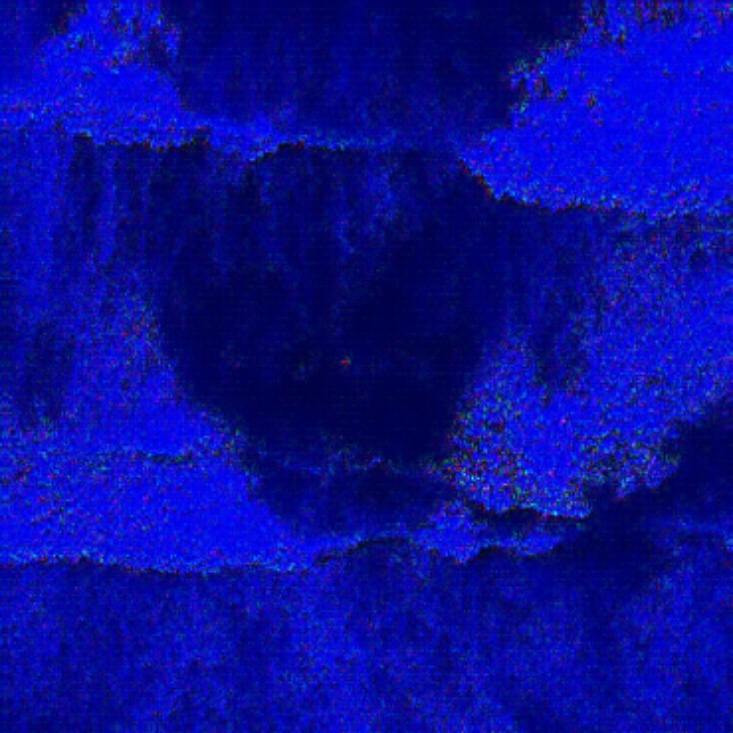rip_current: (152, 56, 516, 517)
